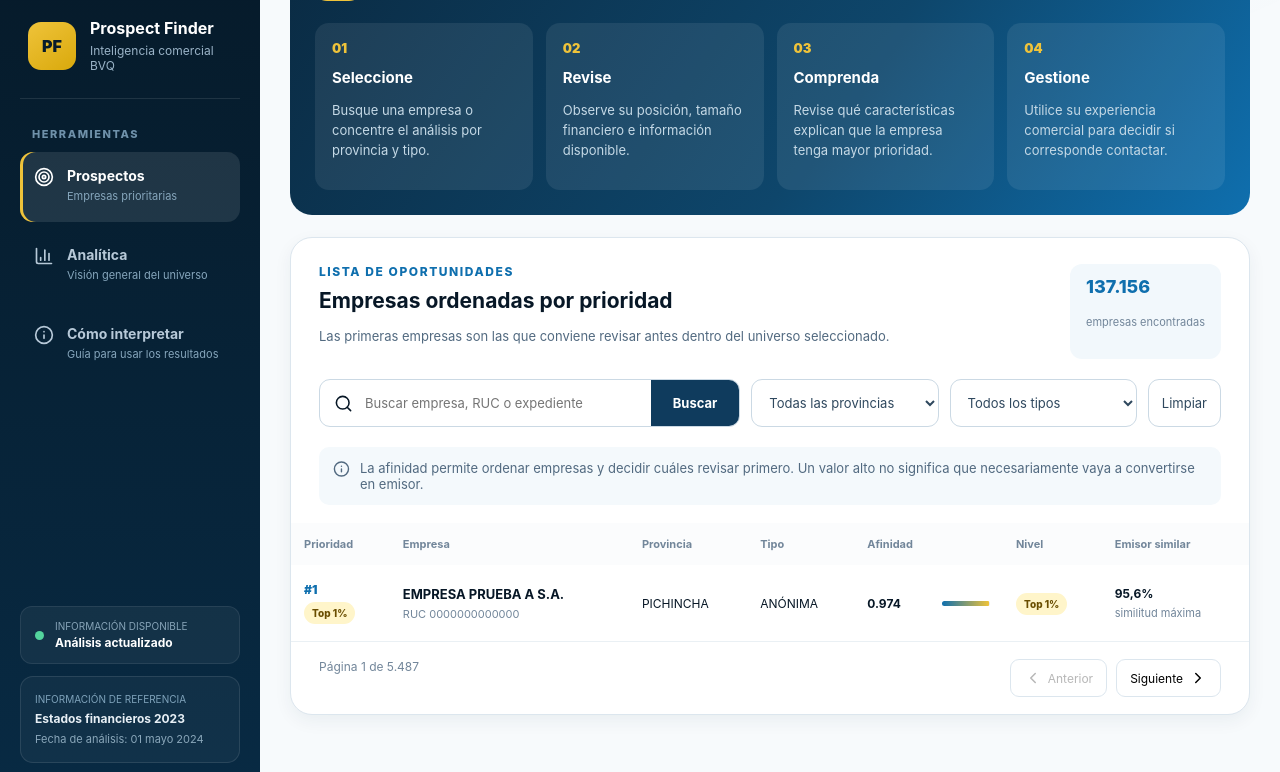
it: Prospect Finder BVQ › abre el detalle financiero de una empresa
(page scrolled)
Click the text "EMPRESA PRUEBA A S.A.".
click(484, 594)  # box [403,586,564,602]
(page scrolled)
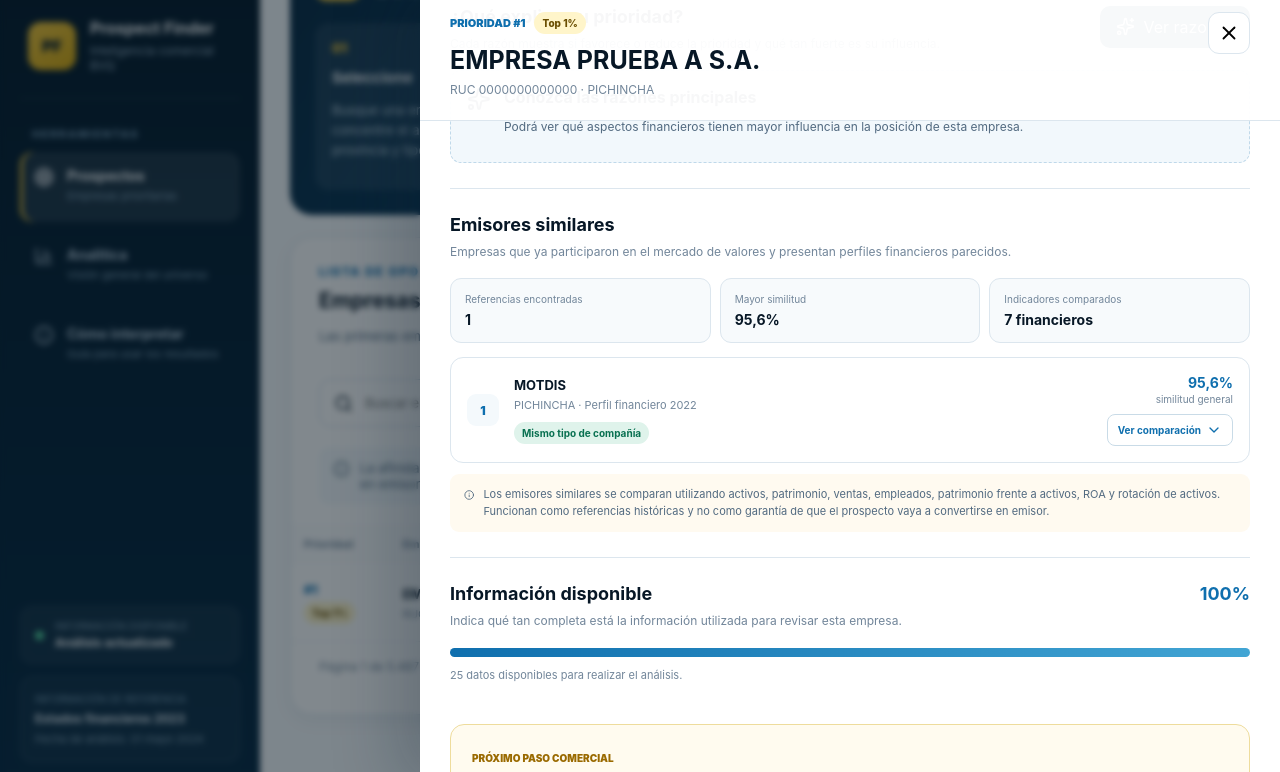
Expected: the text "MOTDIS" is shown, [514,377,566,393]
